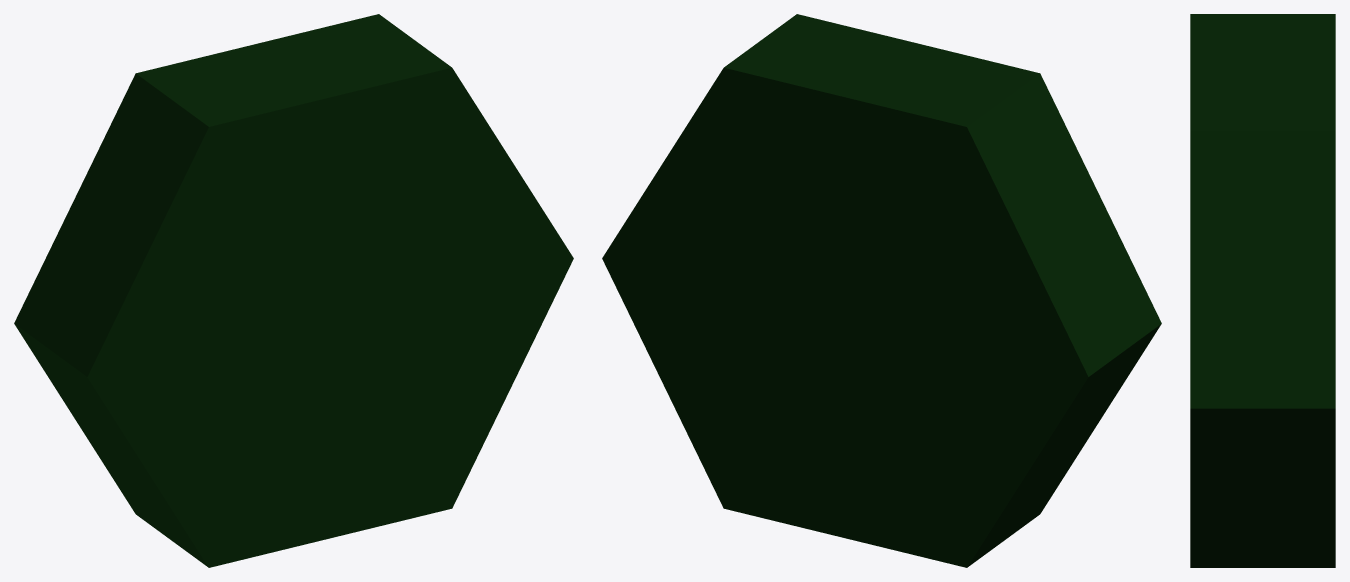
The model's file is LemonBottleCap.obj.
3 renders of one model, left to right at view 1: azimuth 30°, elevation 25°; view 2: azimuth 150°, elevation 25°; view 3: azimuth 270°, elevation 25°, orthographic.
Parts seen in each view (by area): view 1: sodaBottle.001; view 2: sodaBottle.001; view 3: sodaBottle.001.
Boxes of the visible parts, <box> form: sodaBottle.001: <box>14,14,573,567</box>; sodaBottle.001: <box>602,14,1161,567</box>; sodaBottle.001: <box>1190,14,1335,567</box>.
Bounding box in the file's own units: 0.0366 × 0.0317 × 0.00955.
